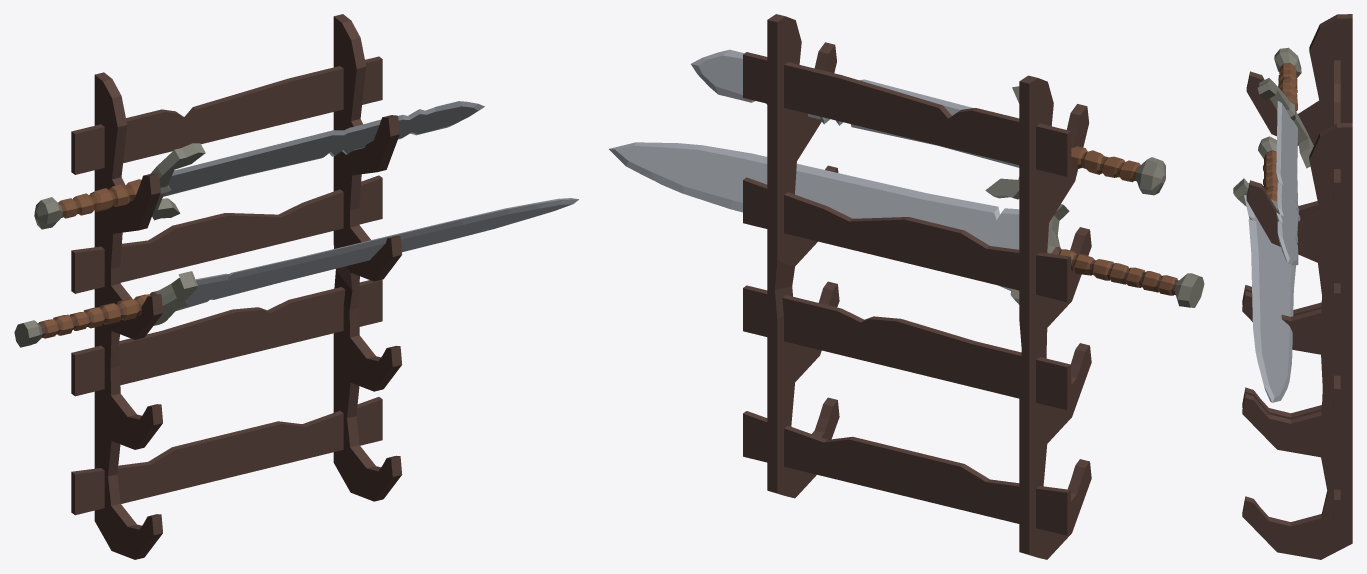
Rendered from Sword_WallMount.glb.
3 renders of one model, left to right at view 1: azimuth 30°, elevation 25°; view 2: azimuth 150°, elevation 25°; view 3: azimuth 270°, elevation 25°, orthographic. The views are drawn at different scales.
Visible parts, largest first — view 1: Sword_WallMount, Sword_big, Sword; view 2: Sword_WallMount, Sword_big, Sword; view 3: Sword_WallMount, Sword_big, Sword.
Part boxes in pixels (bbox=[...]): Sword_WallMount: bbox=[71, 14, 402, 559]; Sword_big: bbox=[14, 198, 578, 347]; Sword: bbox=[34, 101, 484, 229]; Sword_WallMount: bbox=[743, 14, 1091, 559]; Sword_big: bbox=[609, 142, 1204, 307]; Sword: bbox=[691, 49, 1165, 199]; Sword_WallMount: bbox=[1242, 14, 1352, 559]; Sword_big: bbox=[1233, 136, 1295, 402]; Sword: bbox=[1257, 47, 1313, 265].
Size of the model in its own units: 1.07 by 0.8471 by 0.2117.
